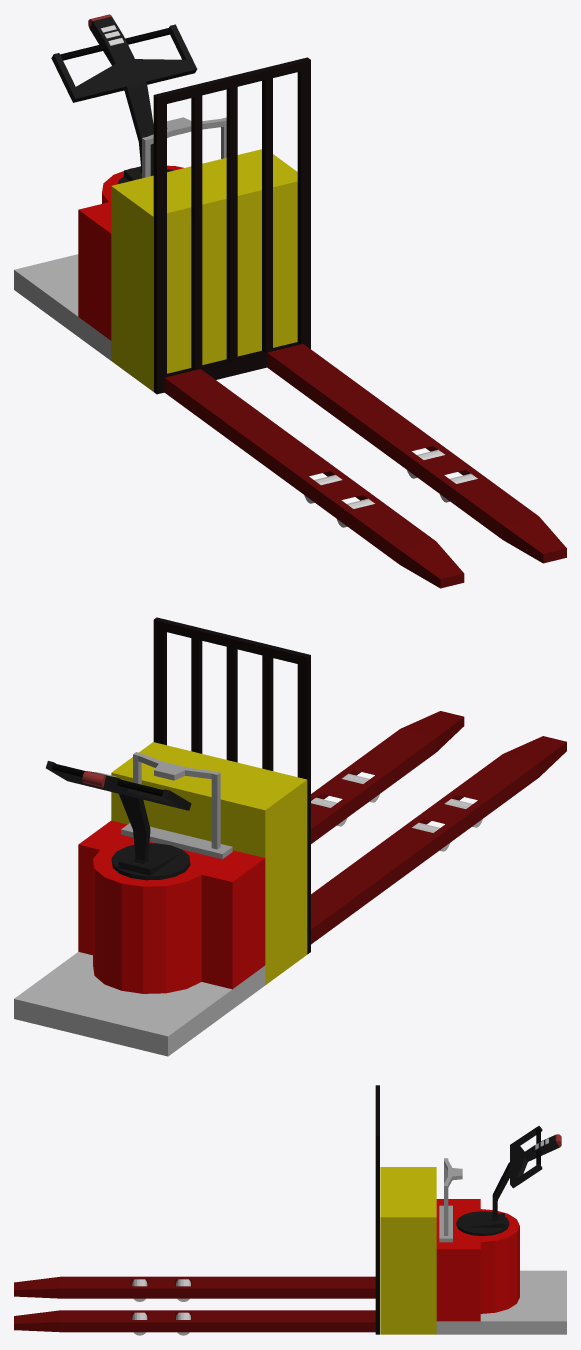
File: autoPalletJackv2_2.obj
3 views of the same model, one above another, from view 1: azimuth 30°, elevation 25°; view 2: azimuth 150°, elevation 25°; view 3: azimuth 270°, elevation 25° (orthographic). The views are drawn at different scales.
Size of the model in its own units: 0.2769 by 0.5199 by 1.28.
